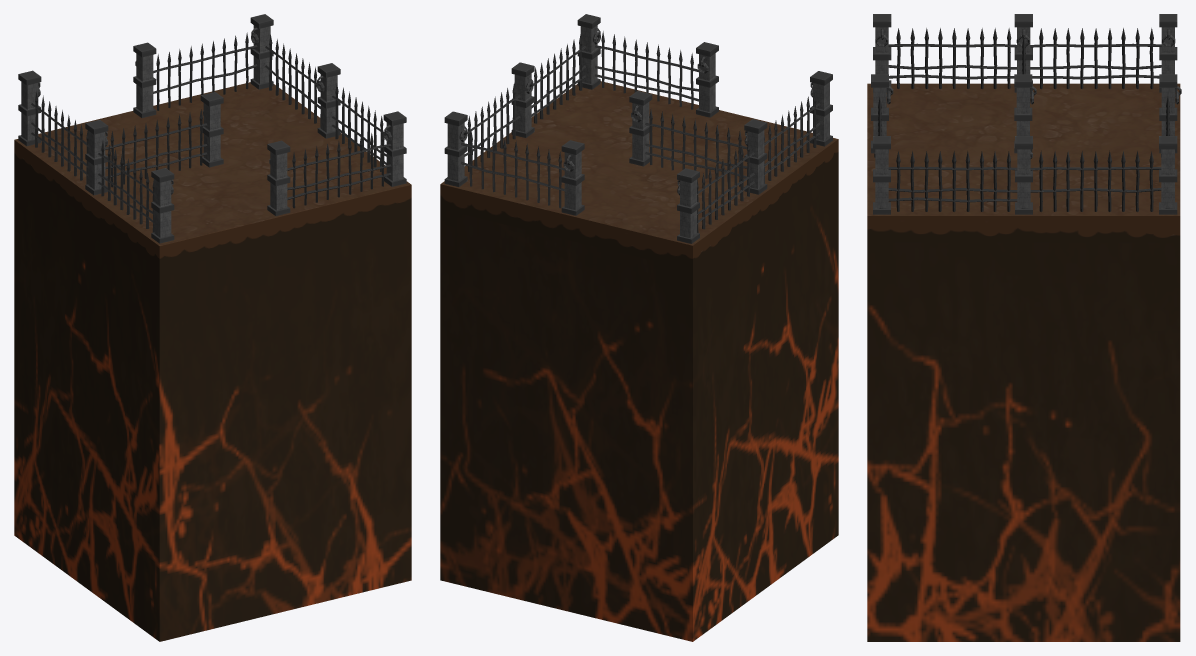
File: Plataforma Reja ZigZag.fbx
The picture shows the model from 3 angles, left to right: view 1: azimuth 30°, elevation 25°; view 2: azimuth 150°, elevation 25°; view 3: azimuth 270°, elevation 25°; orthographic projection. The views are drawn at different scales.
Parts seen in each view (by area): view 1: Plataforma 1.002, Cube.081, Cube.159, Cube.184, Cube.172, Cube.082, Cube.010, Cube.011, Cube.095, Cube.107; view 2: Plataforma 1.002, Cube.107, Cube.011, Cube.184, Cube.159, Cube.172, Cube.095, Cube.010, Cube.082, Cube.081; view 3: Plataforma 1.002, Cube.107, Cube.082, Cube.095, Cube.172, Cube.081, Cube.011, Cube.184, Cube.159, Cube.010.
Boxes of the visible parts, x1,y1,x2,y2 form: Plataforma 1.002: [14, 82, 411, 641]; Cube.081: [151, 168, 174, 243]; Cube.159: [267, 140, 290, 215]; Cube.184: [133, 42, 156, 117]; Cube.172: [200, 92, 223, 167]; Cube.082: [383, 111, 406, 186]; Cube.010: [85, 120, 108, 195]; Cube.011: [18, 70, 41, 146]; Cube.095: [317, 63, 340, 138]; Cube.107: [250, 14, 273, 89]; Plataforma 1.002: [440, 81, 838, 641]; Cube.107: [444, 111, 467, 186]; Cube.011: [677, 168, 699, 243]; Cube.184: [561, 140, 584, 215]; Cube.159: [696, 42, 718, 117]; Cube.172: [629, 90, 652, 166]; Cube.095: [511, 62, 534, 137]; Cube.010: [744, 119, 767, 194]; Cube.082: [577, 14, 600, 89]; Cube.081: [810, 71, 832, 146]; Plataforma 1.002: [867, 83, 1180, 641]; Cube.107: [1159, 136, 1177, 214]; Cube.082: [873, 136, 890, 214]; Cube.095: [1015, 136, 1032, 214]; Cube.172: [1014, 74, 1032, 153]; Cube.081: [873, 14, 891, 92]; Cube.011: [1159, 14, 1177, 92]; Cube.184: [1159, 74, 1177, 153]; Cube.159: [871, 74, 888, 153]; Cube.010: [1014, 14, 1032, 92].
Bounding box in the file's own units: 1000 × 1750 × 1004.
